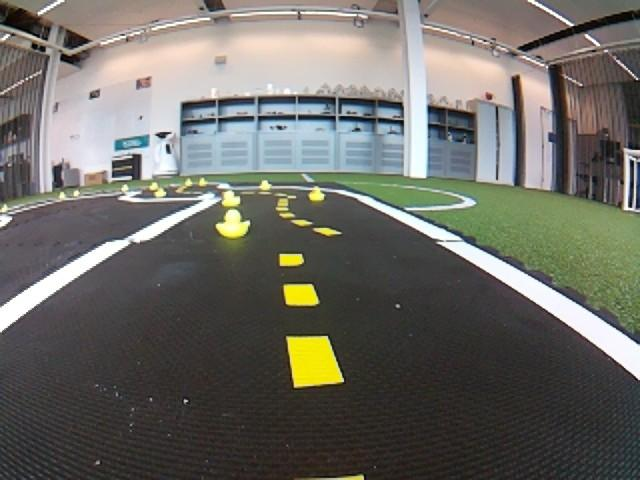Duckies: (216, 208, 251, 239), (222, 190, 241, 206), (308, 186, 326, 201), (259, 180, 272, 190), (153, 188, 167, 197), (199, 178, 208, 186), (1, 204, 9, 212), (150, 182, 158, 190), (175, 187, 184, 194), (185, 178, 192, 186), (72, 189, 80, 195), (59, 192, 65, 199), (123, 184, 128, 192)
